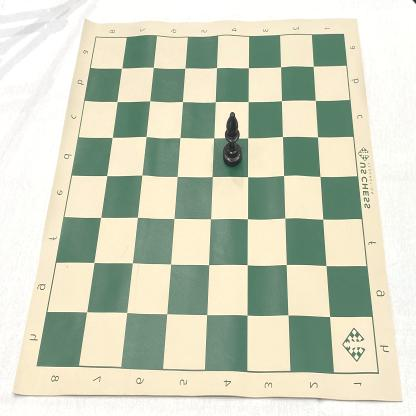black-bishop: (222, 112, 242, 167)
